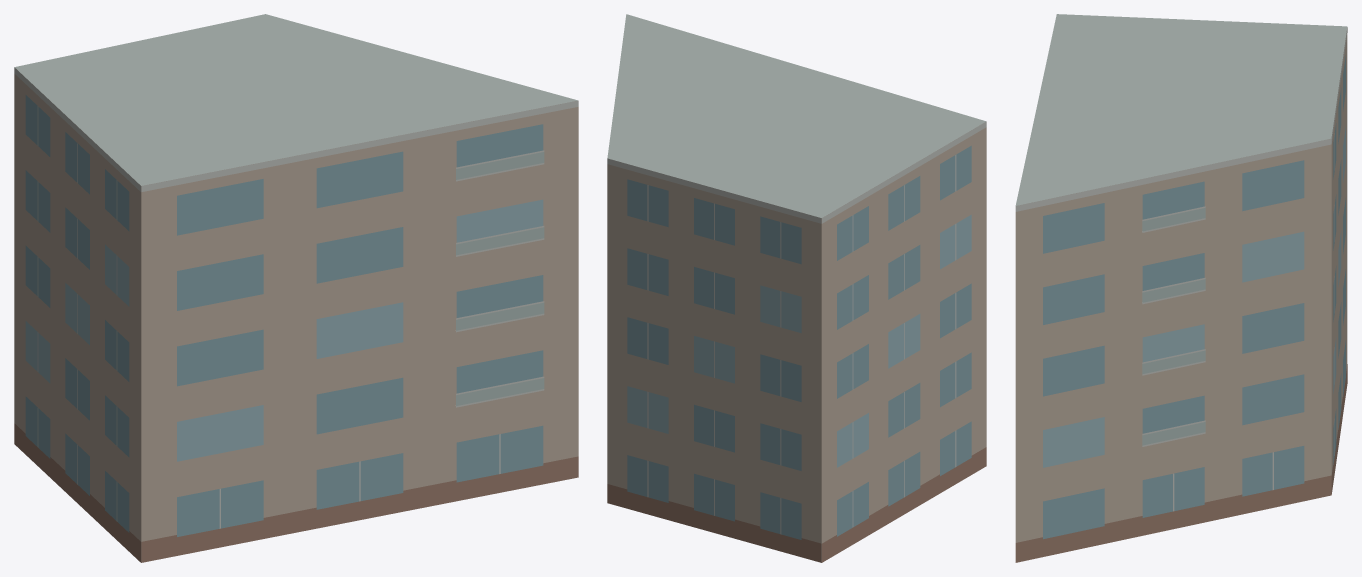
The model's file is survey-upis-32761418.glb.
The picture shows the model from 3 angles, left to right: view 1: azimuth 30°, elevation 25°; view 2: azimuth 150°, elevation 25°; view 3: azimuth 270°, elevation 25°; orthographic projection. The views are drawn at different scales.
Parts seen in each view (by area): view 1: survey-upis-32761418.tmp; view 2: survey-upis-32761418.tmp; view 3: survey-upis-32761418.tmp.
Part boxes in pixels (<box>): survey-upis-32761418.tmp: <box>14,14,578,562</box>; survey-upis-32761418.tmp: <box>607,14,986,562</box>; survey-upis-32761418.tmp: <box>1015,14,1347,562</box>.
Size of the model in its own units: 16.98 by 14.7 by 12.4.
